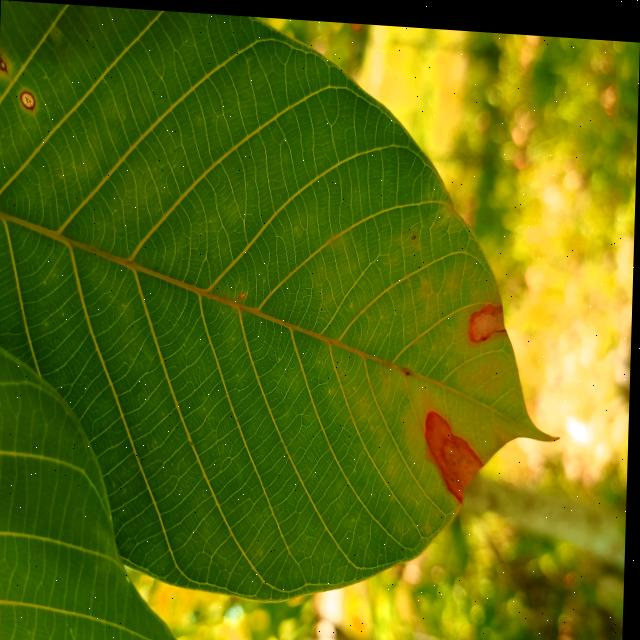Colletotrichum: (19, 90, 35, 110), (0, 58, 7, 72), (412, 230, 416, 234)
Leaf-Blight: (424, 403, 486, 498), (468, 295, 507, 335)
